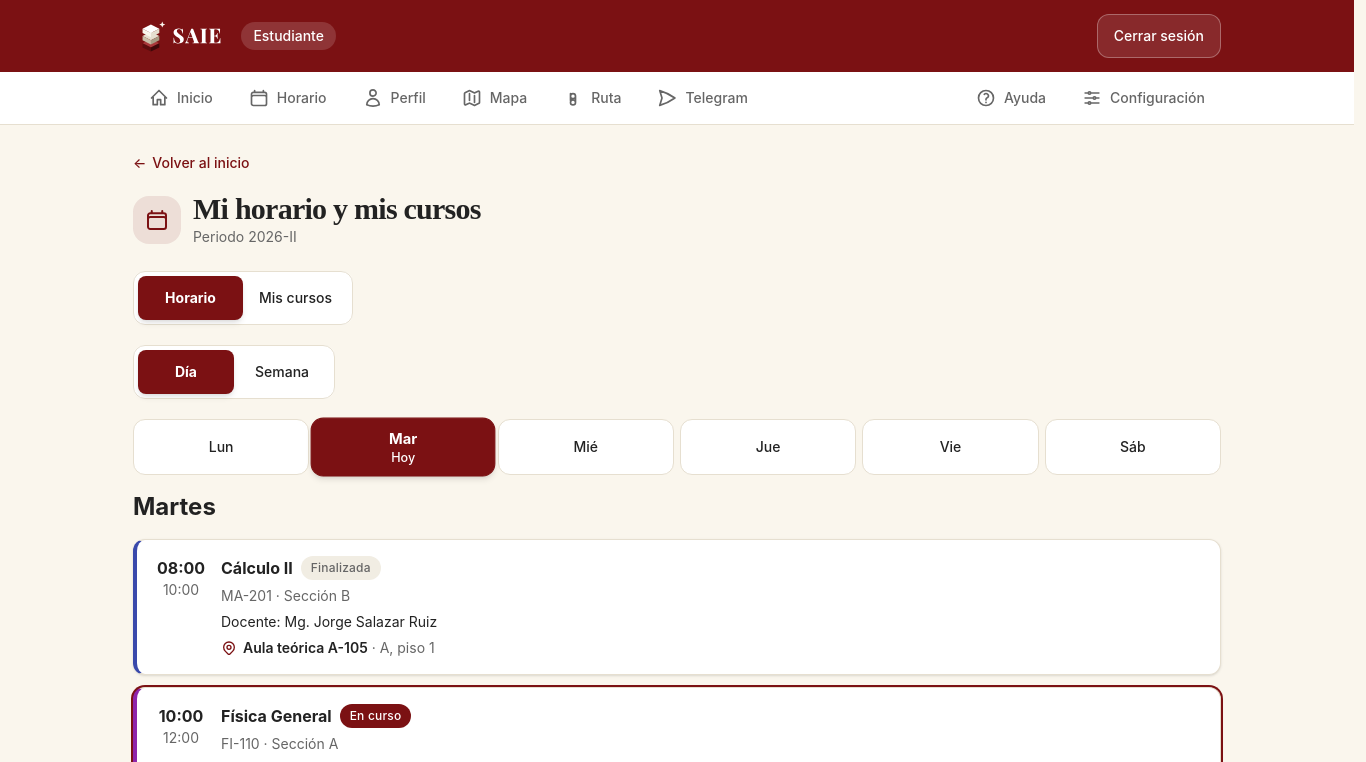
Test: HorarioMisCursos (Issue #145 / 3.16) › vista diaria › cambia de día y muestra un estado vacío cuando no hay clases
This screenshot has width=1366, height=762.
Click the button with aria-label "Lunes" at (221, 447), box left=133, top=419, right=309, bottom=475
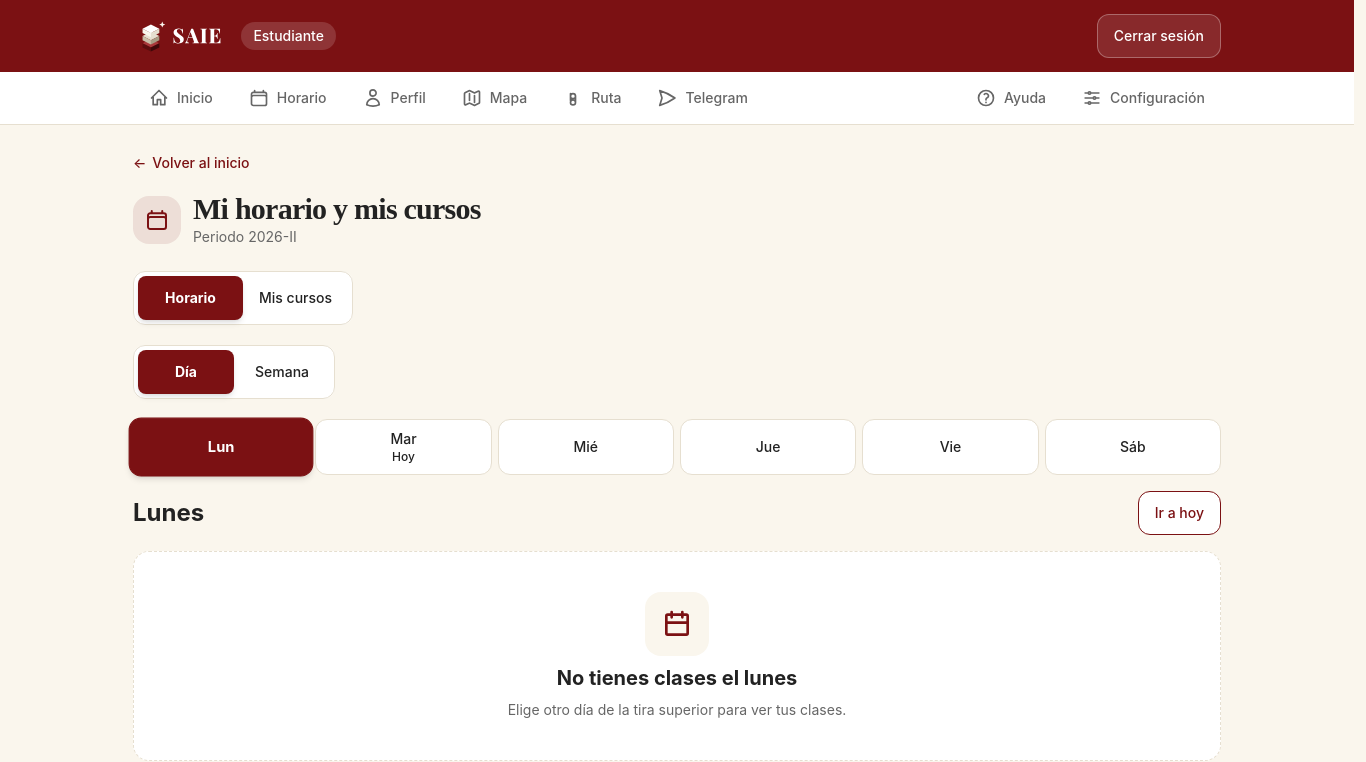
Expected: the heading "Lunes" is shown, left=133, top=497, right=204, bottom=529
Expected: the heading "No tienes clases el lunes" is shown, left=557, top=664, right=797, bottom=692
Click the button "Ir a hoy" at (1179, 513), box left=1138, top=491, right=1221, bottom=535
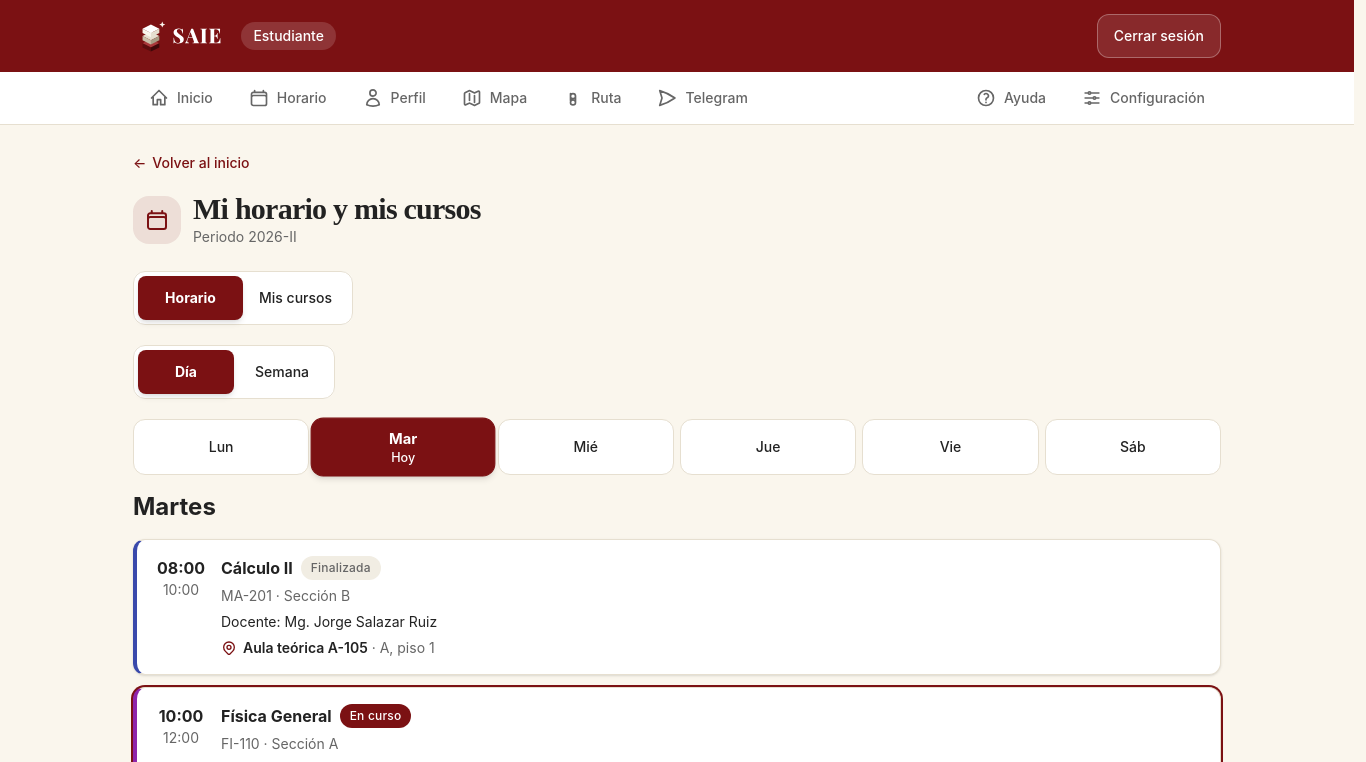
Expected: the heading "Martes" is shown, left=133, top=491, right=216, bottom=523
Expected: the button "Ir a hoy" is gone
